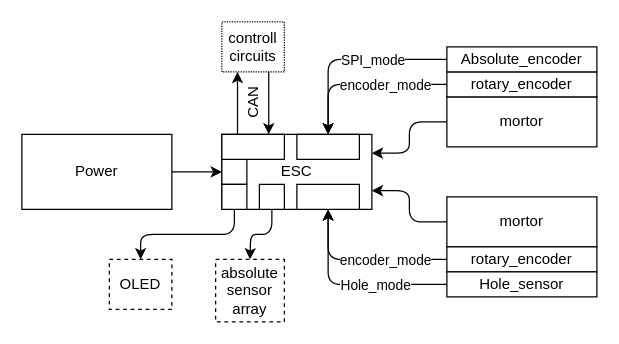
The diagram is 619 pixels wide and 344 high, and some of its shapes have lost their labels. The box of each missing label's shape, as (x1, y1, x2, y2) in pixels:
CAN(J5: (221, 133, 284, 159)
i2C: (221, 183, 247, 209)
J9: (221, 158, 247, 184)
port 1(J1: (296, 133, 359, 159)
port 2(J2: (296, 183, 359, 209)
SPI: (258, 183, 284, 209)
